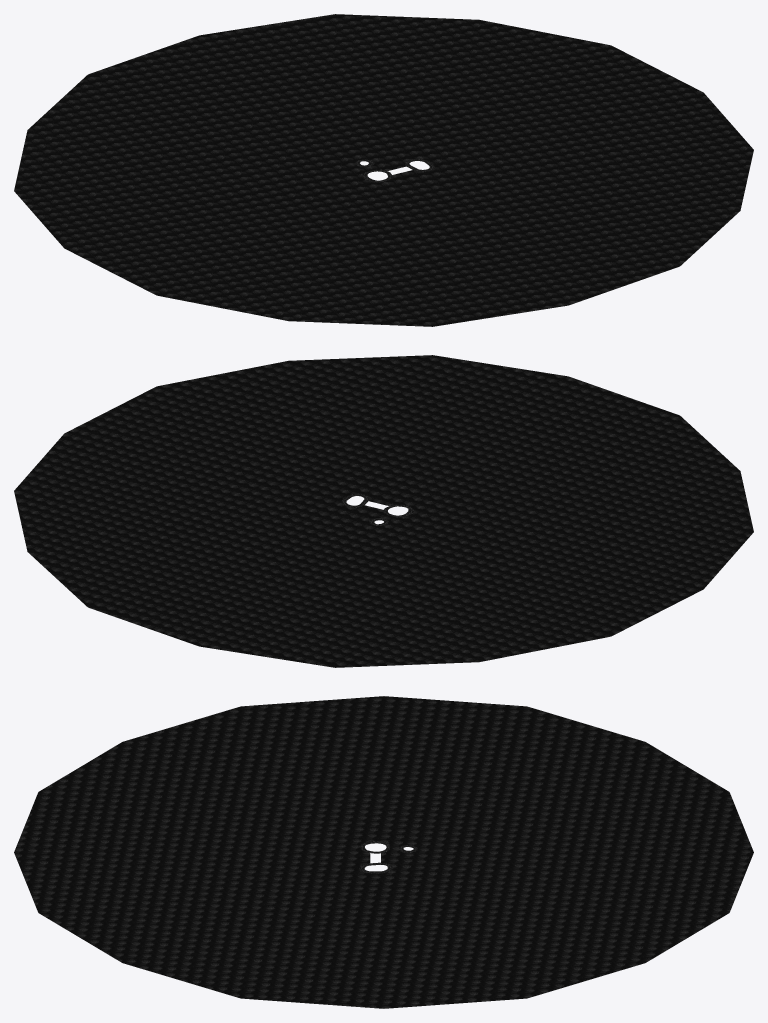
The model's file is sea_bake.dae.
The picture shows the model from 3 angles, top to bottom: view 1: azimuth 30°, elevation 25°; view 2: azimuth 150°, elevation 25°; view 3: azimuth 270°, elevation 25°; orthographic projection.
Parts seen in each view (by area): view 1: m0; view 2: m0; view 3: m0.
Boxes of the visible parts, bbox=[...] form: m0: bbox=[14, 14, 753, 326]; m0: bbox=[14, 355, 753, 667]; m0: bbox=[14, 696, 753, 1008].
Bounding box in the file's own units: 212672 × 22 × 212672.
Materials: 3 (3 with a texture image).
